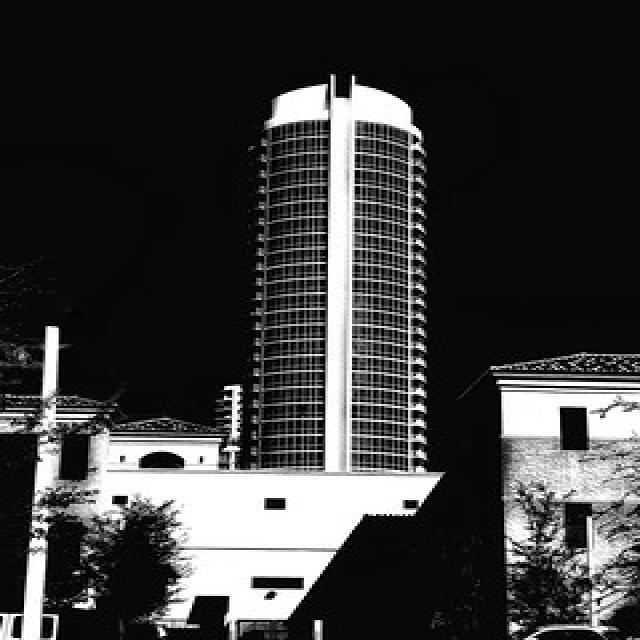Normal_building: (243, 75, 429, 479)
